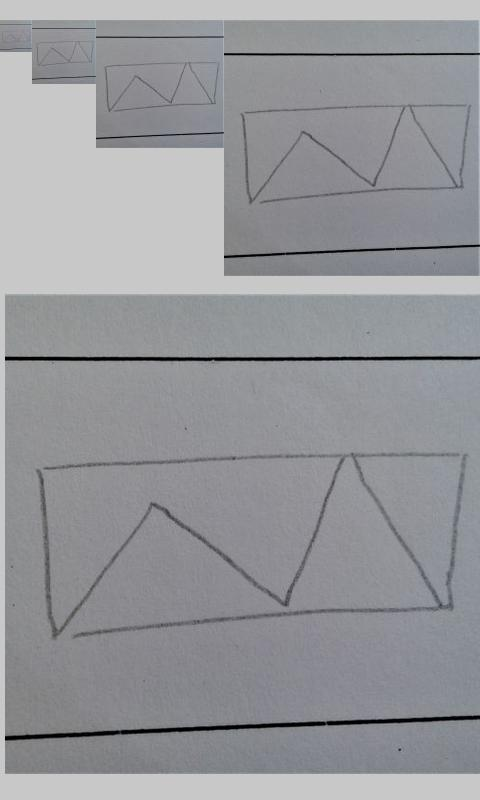image_view: (36, 447, 470, 642), (237, 98, 472, 208), (103, 60, 222, 112), (35, 40, 94, 67), (1, 29, 31, 43)
